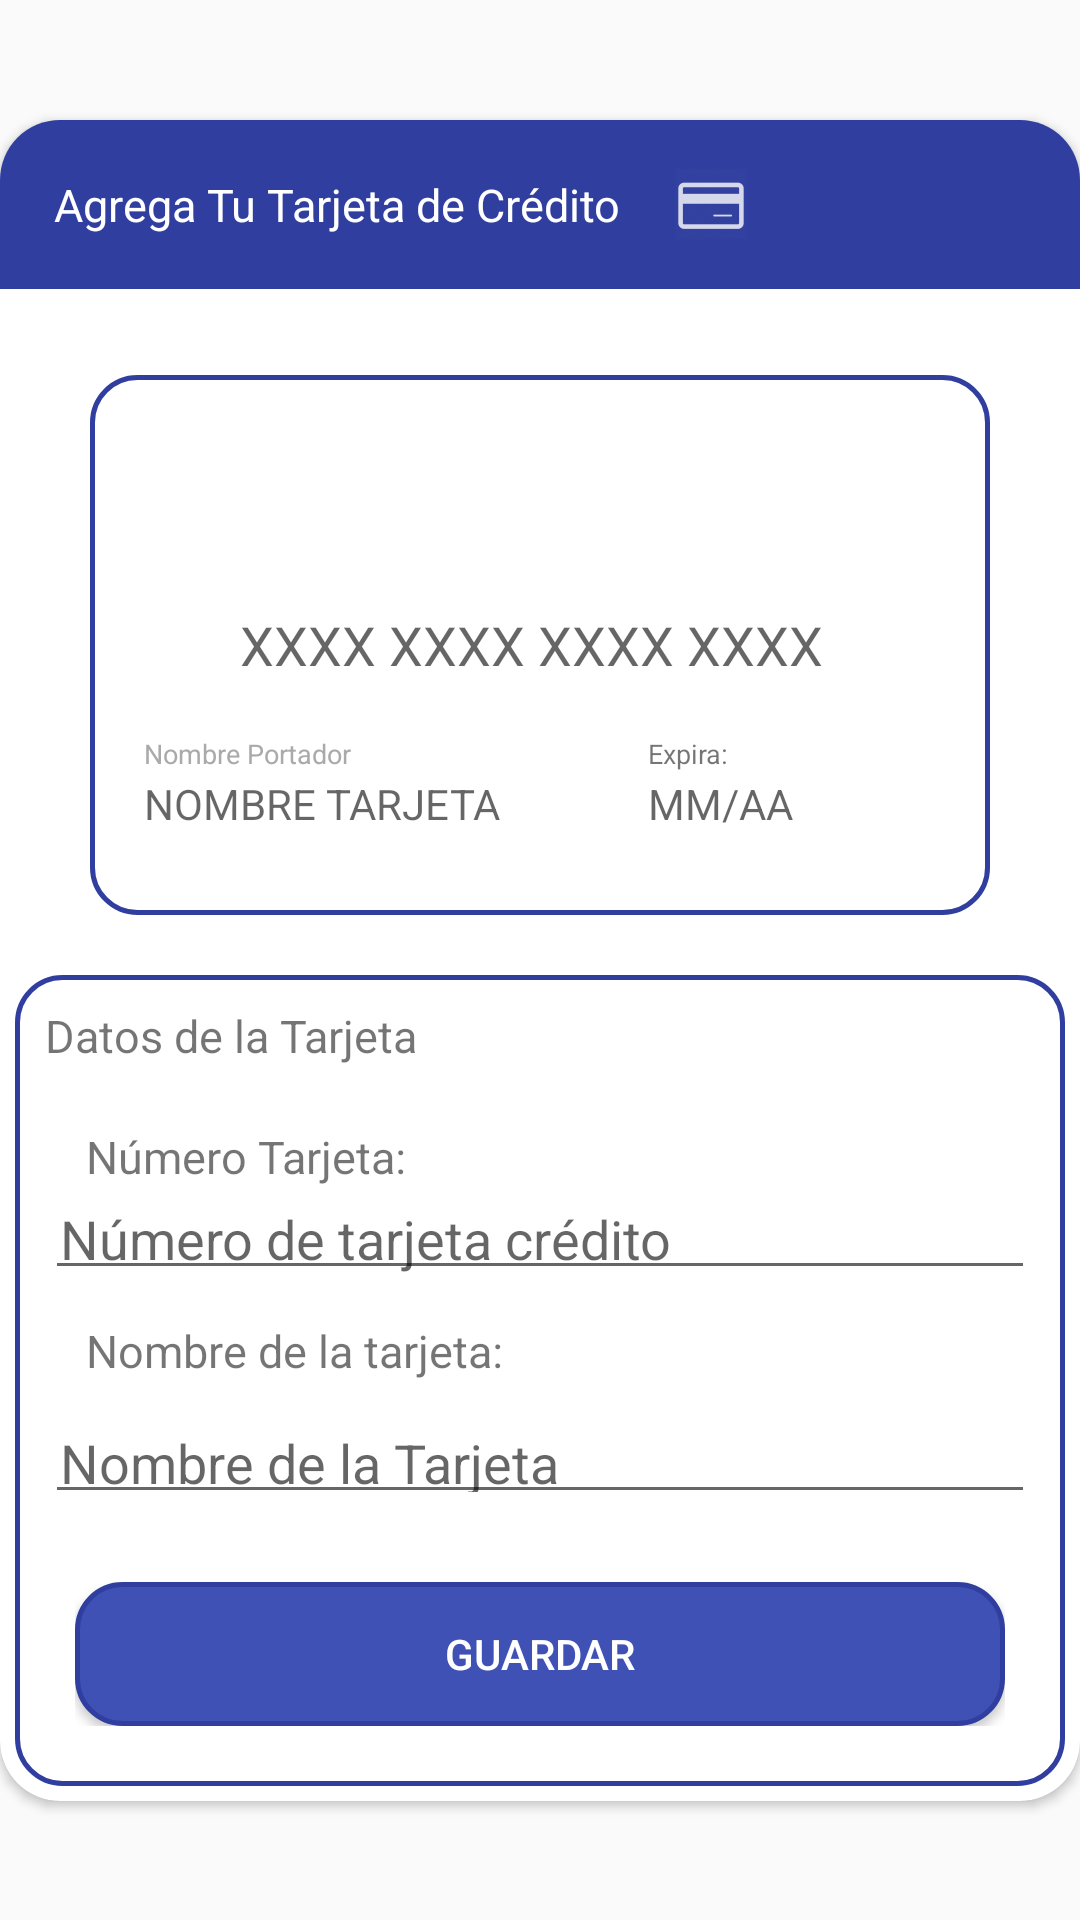

Locate icon controls on the screen. Image size 1080 × 1920, boxes as box=[x1, y1, x2, y2].
creditcard: box=[678, 182, 744, 229]
